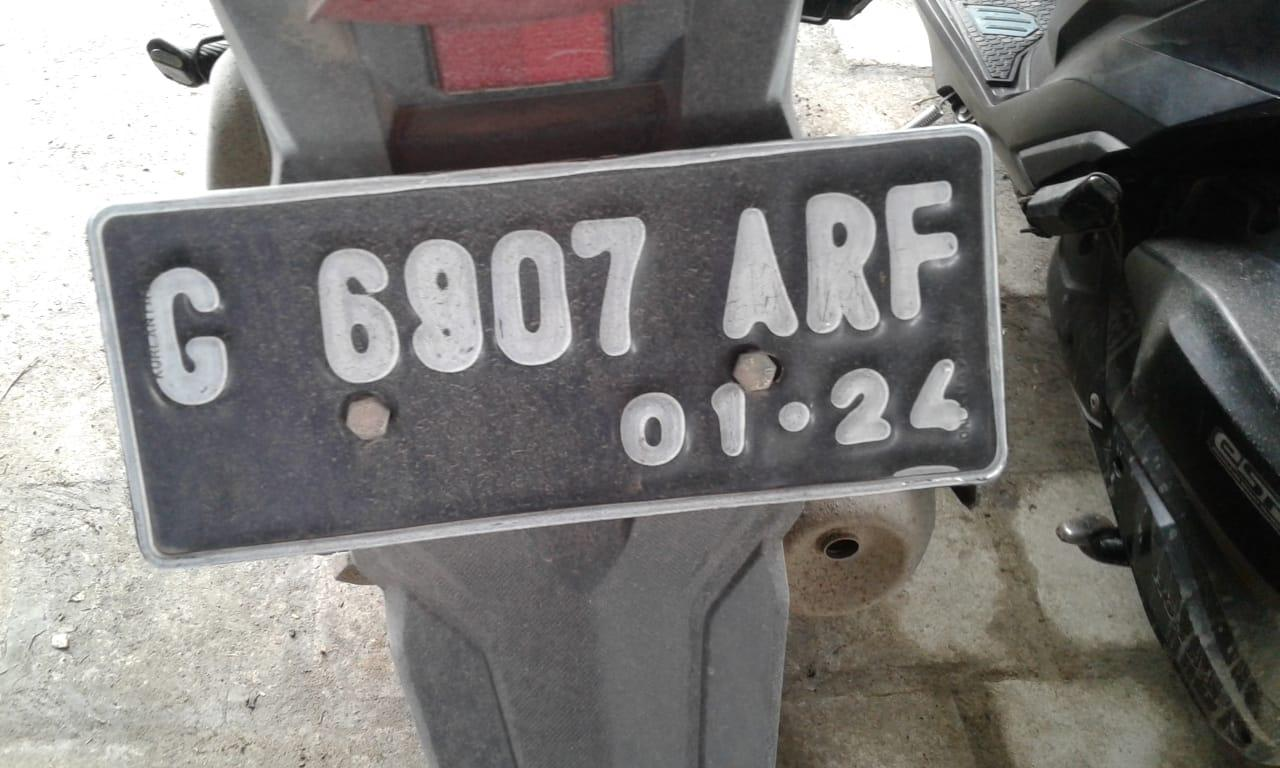plat: (90, 128, 1005, 565)
